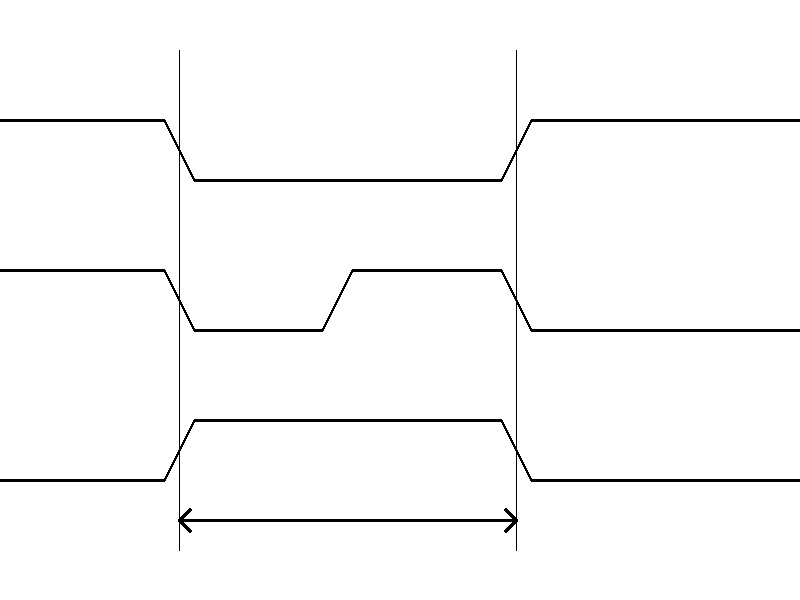double_arrow: (179, 505, 516, 535)
